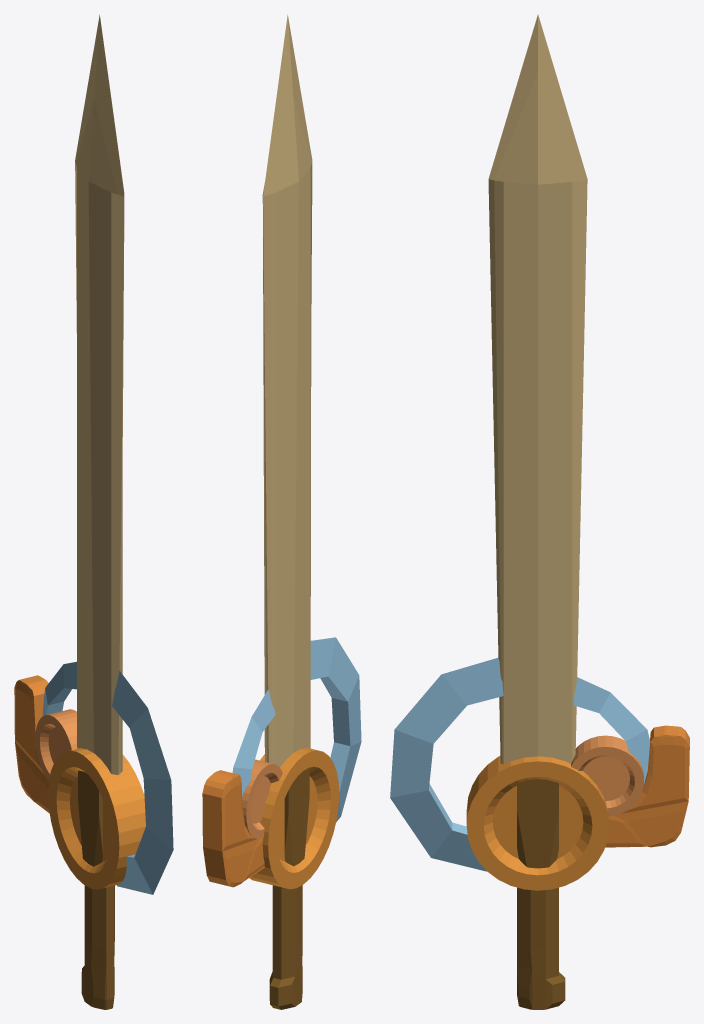
3 views of the same model, side by side, from view 1: azimuth 30°, elevation 25°; view 2: azimuth 150°, elevation 25°; view 3: azimuth 270°, elevation 25° (orthographic).
Parts seen in each view (by area): view 1: Cube.002, Cylinder, Torus, Cube, Cube.003, Cylinder.001; view 2: Cube.002, Cylinder, Torus, Cube, Cube.003, Cylinder.001; view 3: Cube.002, Torus, Cylinder, Cube, Cube.003, Cylinder.001.
Boxes of the visible parts, x1,y1,x2,y2 form: Cube.002: (75,14,124,774); Cylinder: (48,748,145,889); Torus: (42,661,173,894); Cube: (78,770,114,1009); Cube.003: (14,675,49,813); Cylinder.001: (35,709,77,780); Cube.002: (262,14,312,767); Cylinder: (249,748,339,889); Torus: (232,637,361,822); Cube: (269,770,309,1009); Cube.003: (202,770,264,887); Cylinder.001: (242,759,282,838); Cube.002: (488,14,587,764); Torus: (390,658,650,871); Cylinder: (466,756,609,890); Cube: (517,779,565,1009); Cube.003: (605,725,689,847); Cylinder.001: (571,735,643,816).
Bounding box in the file's own units: 12.59 × 373 × 102.
